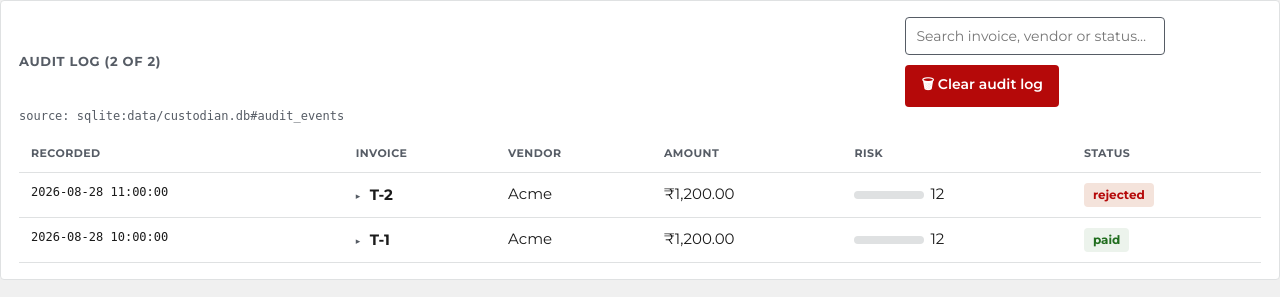
Test case: Audit › filters by status
In the field with placeholder "Search invoice, vendor or status…": x=1035, y=36 [905,17,1165,55], type "rejected"
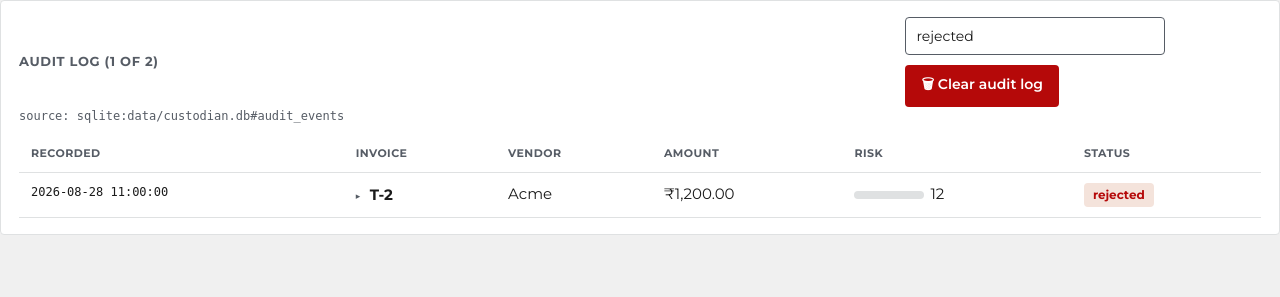
Expected: the heading "Audit log (1 of 2)" is shown, [19,52,159,72]
